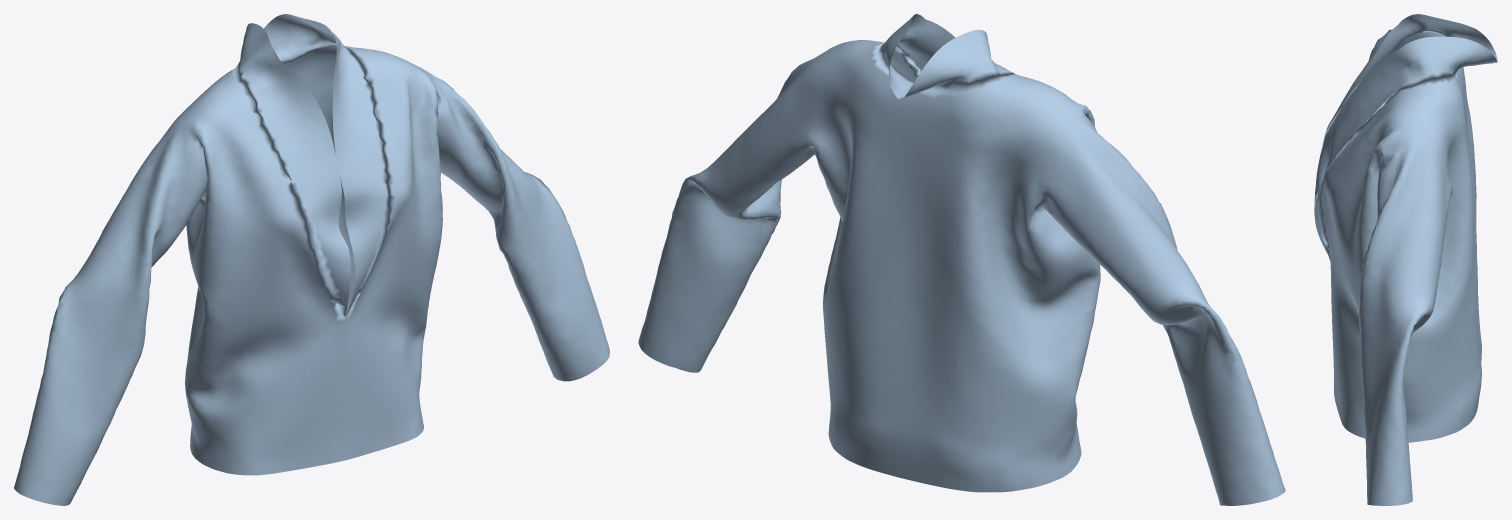
Rendered from jacket_XS.glb.
3 views of the same model, side by side, from view 1: azimuth 30°, elevation 25°; view 2: azimuth 150°, elevation 25°; view 3: azimuth 270°, elevation 25° (orthographic). The views are drawn at different scales.
Visible parts, largest first — view 1: geometry_0; view 2: geometry_0; view 3: geometry_0.
Part boxes in pixels (box(x1,y1,x2,y2)): geometry_0: box(14, 14, 609, 505); geometry_0: box(638, 14, 1285, 505); geometry_0: box(1314, 14, 1497, 505).
Size of the model in its own units: 1 by 0.6475 by 0.2916.
